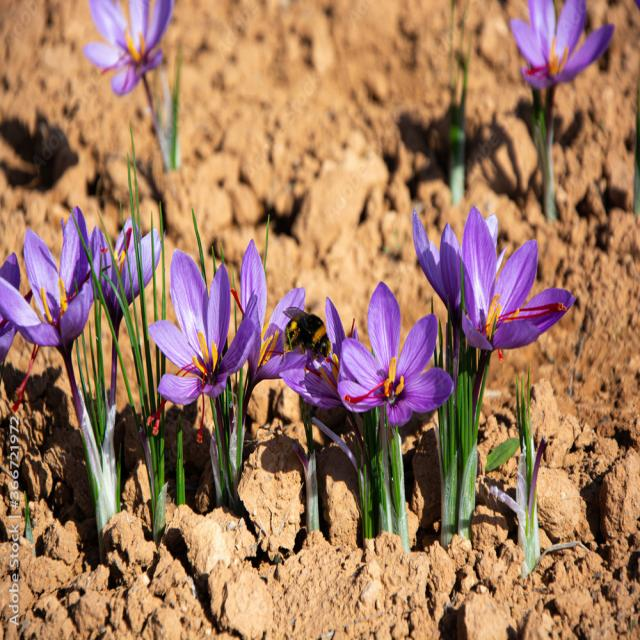saffron open: (510, 0, 615, 221), (0, 208, 94, 424), (149, 249, 255, 405), (338, 283, 454, 425), (461, 208, 575, 350), (82, 0, 174, 96), (89, 217, 161, 337), (109, 343, 118, 407)
